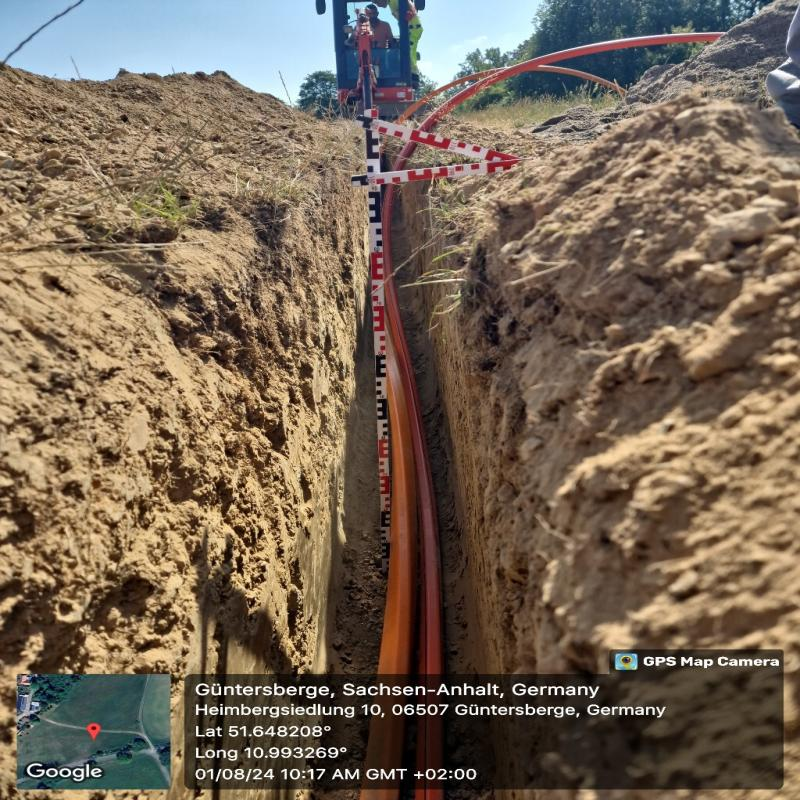Orang-Speednetrohrchen: (373, 281, 440, 676)
